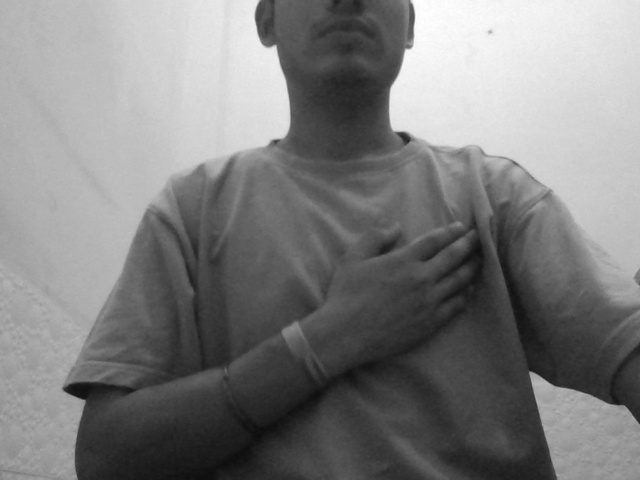Sorry: (297, 200, 506, 386)
